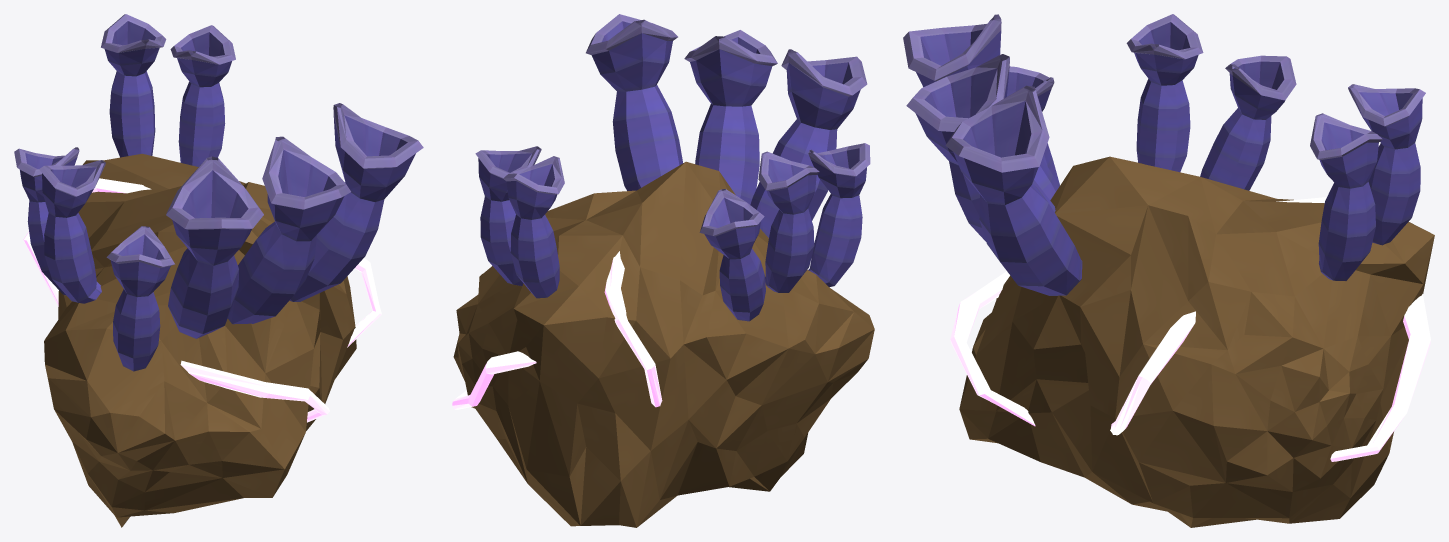
The model's file is Meteorite4.fbx.
3 renders of one model, left to right at view 1: azimuth 30°, elevation 25°; view 2: azimuth 150°, elevation 25°; view 3: azimuth 270°, elevation 25°, orthographic. The views are drawn at different scales.
Visible parts, largest first — view 1: Cylinder.013, Sphere.005; view 2: Sphere.005, Cylinder.013; view 3: Sphere.005, Cylinder.013.
Part boxes in pixels (box(x1,y1,x2,y2)): Cylinder.013: box(14, 14, 423, 422); Sphere.005: box(44, 153, 356, 527); Sphere.005: box(453, 161, 874, 527); Cylinder.013: box(452, 14, 870, 409); Sphere.005: box(959, 156, 1434, 527); Cylinder.013: box(903, 14, 1430, 461).
Bounding box in the file's own units: 1.31 × 1.53 × 1.56.
